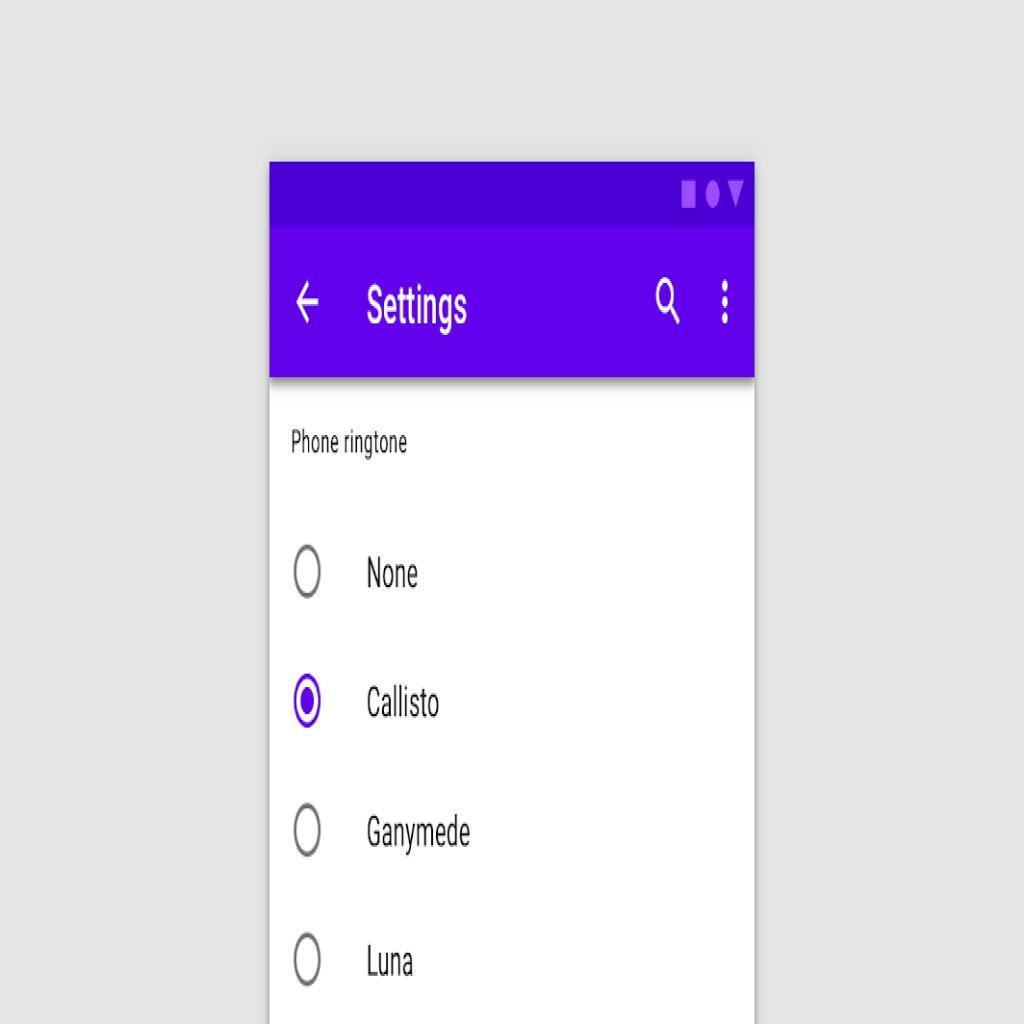icon: (651, 278, 688, 330), (715, 281, 741, 330), (297, 282, 321, 326)
label: (364, 284, 470, 338), (364, 807, 476, 855), (360, 547, 438, 606), (365, 678, 453, 729), (361, 938, 423, 989)
radio: (289, 934, 329, 995), (289, 669, 325, 736), (292, 801, 327, 860), (293, 544, 326, 600)
